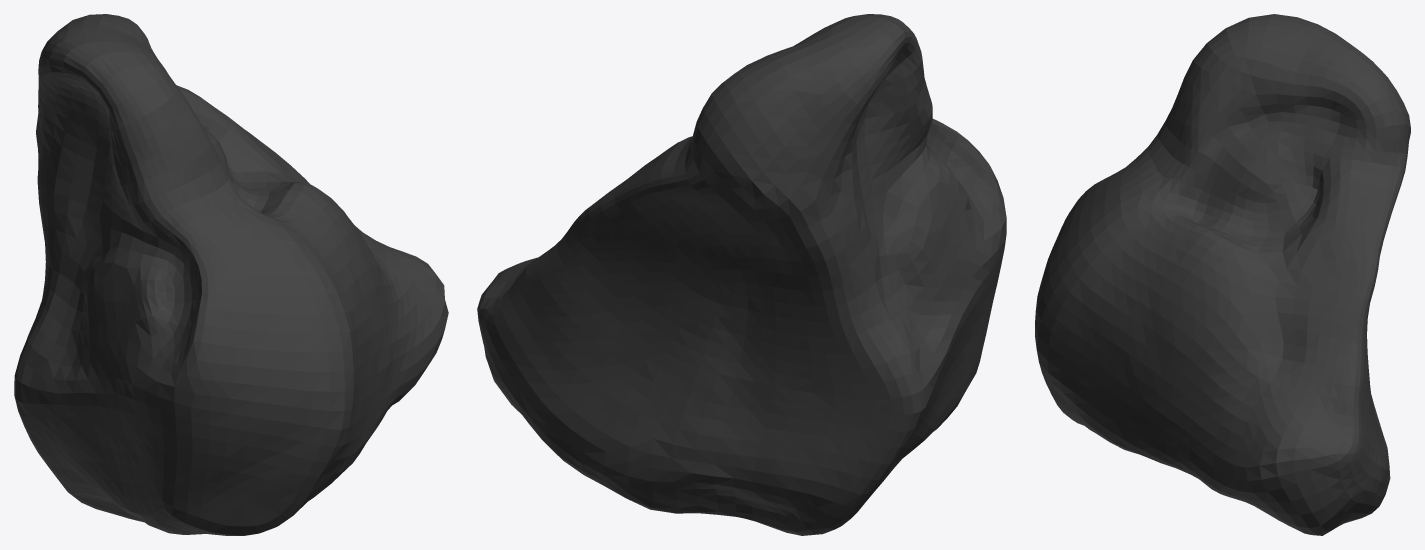
Rendered from Carpal_bone_4th.glb.
The picture shows the model from 3 angles, left to right: view 1: azimuth 30°, elevation 25°; view 2: azimuth 150°, elevation 25°; view 3: azimuth 270°, elevation 25°; orthographic projection. The views are drawn at different scales.
Visible parts, largest first — view 1: Carpal_bone_4th; view 2: Carpal_bone_4th; view 3: Carpal_bone_4th.
Part boxes in pixels (x1,y1,x2,y2): Carpal_bone_4th: (14, 14, 448, 535); Carpal_bone_4th: (477, 14, 1006, 535); Carpal_bone_4th: (1035, 14, 1410, 535).
Bounding box in the file's own units: 0.1804 × 0.2042 × 0.159.
Materials: 1 (1 with a texture image).
